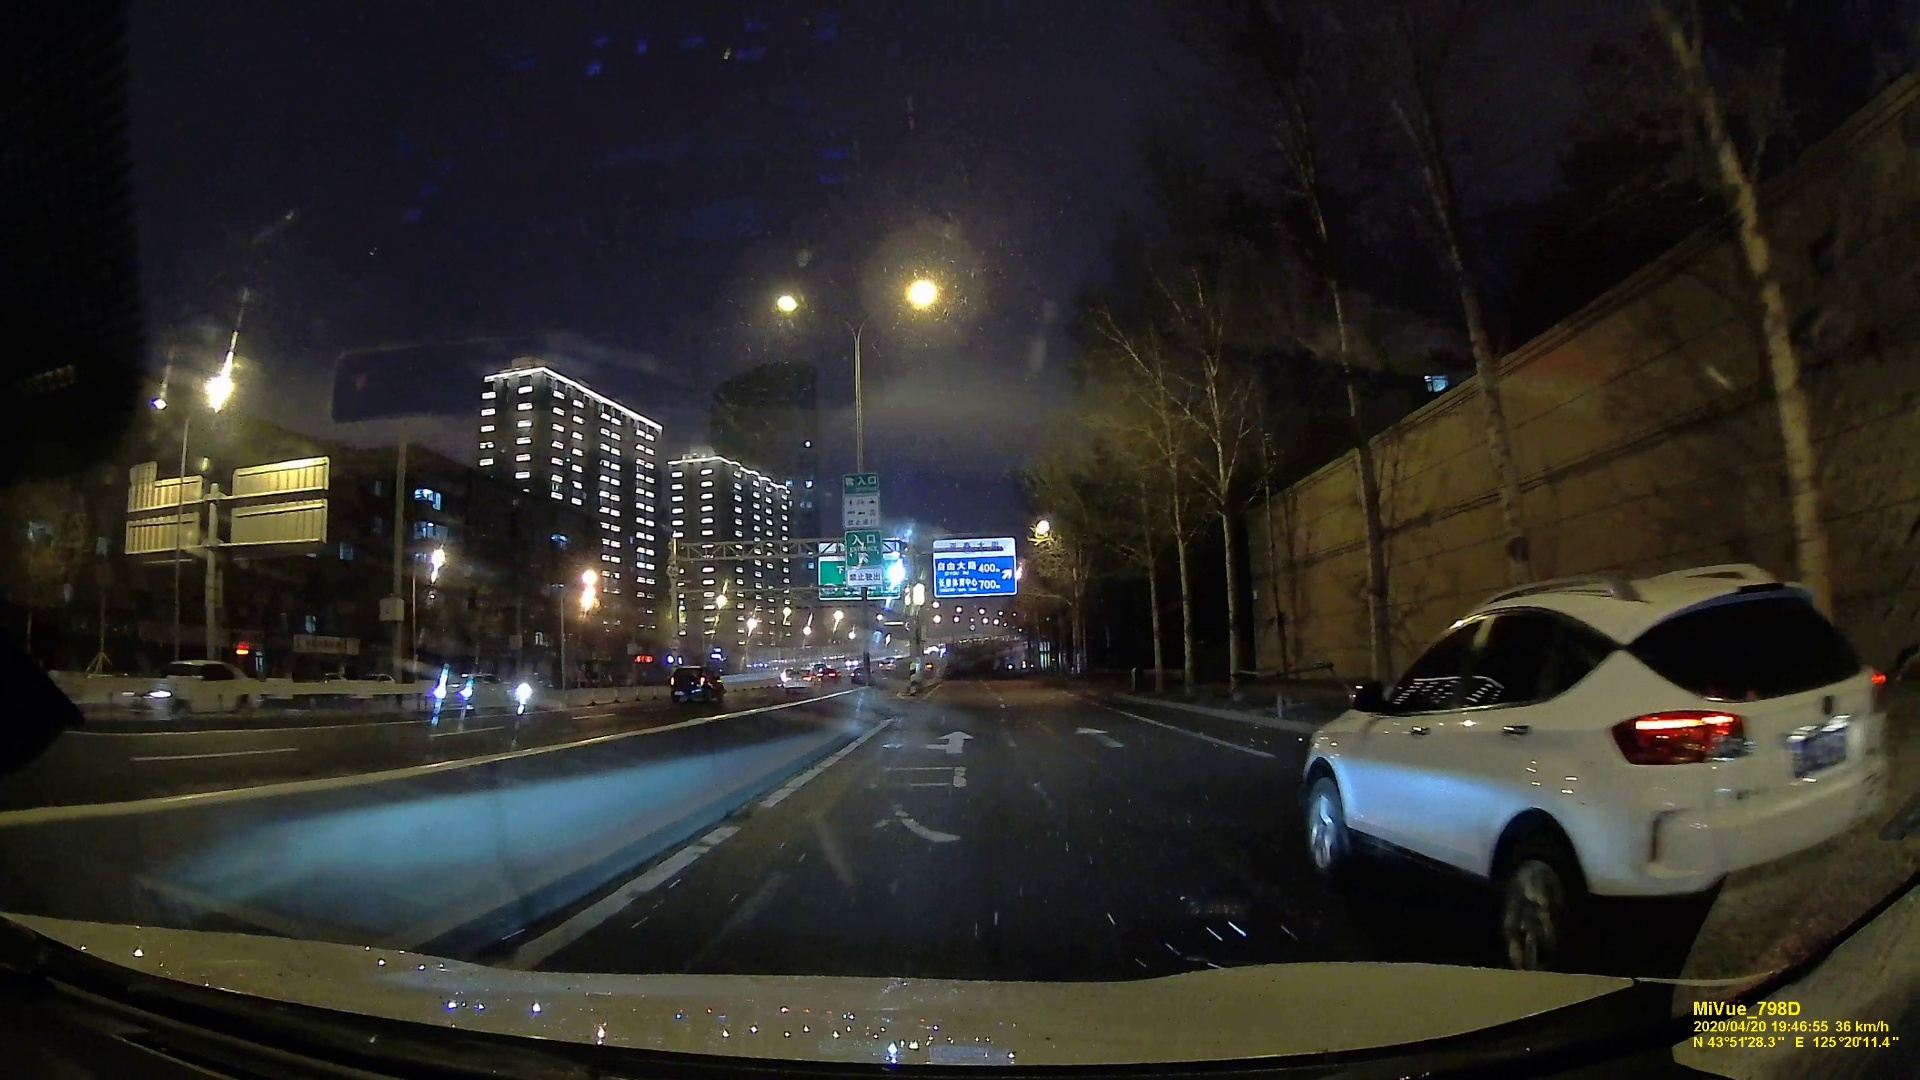traffic_sign: (934, 541, 1013, 591), (841, 475, 878, 527), (844, 531, 880, 585), (783, 667, 820, 694)
vehicle: (1300, 574, 1890, 964), (115, 655, 265, 720), (435, 669, 512, 713), (669, 665, 725, 700)
